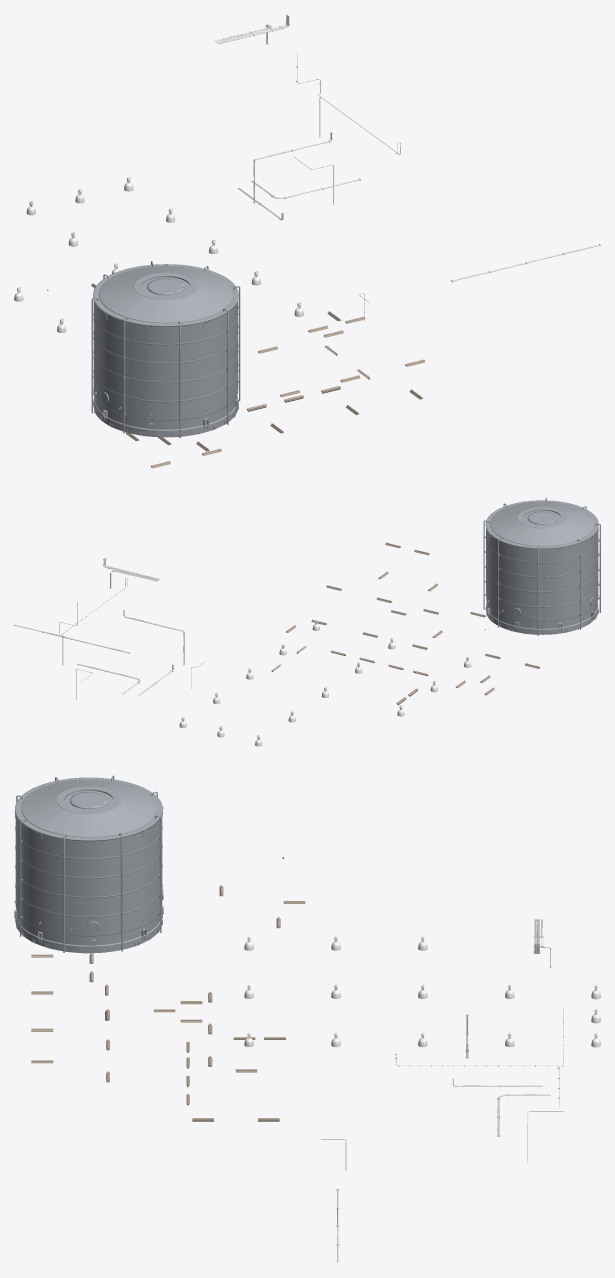
3 renders of one model, top to bottom at view 1: azimuth 30°, elevation 25°; view 2: azimuth 150°, elevation 25°; view 3: azimuth 270°, elevation 25°, orthographic. The views are drawn at different scales.
Parts seen in each view (by area): view 1: n0_lr0_agg_merge_nuke_silo_002_0_fragment1, n0_lr0_agg_merge_wires_001_1_fragment1_c1_0, n0_lr0_agg_prop_nuke_fluorescent_light_on_color_0_fragment1_, n0_lr0_agg_prop_nuke_bell_light_on_color_0_fragment16; view 2: n0_lr0_agg_merge_nuke_silo_002_0_fragment1, n0_lr0_agg_merge_wires_001_1_fragment1_c1_0, n0_lr0_agg_prop_nuke_fluorescent_light_on_color_0_fragment1_, n0_lr0_agg_prop_nuke_bell_light_on_color_0_fragment16; view 3: n0_lr0_agg_merge_nuke_silo_002_0_fragment1, n0_lr0_agg_prop_nuke_fluorescent_light_on_color_0_fragment1_, n0_lr0_agg_merge_wires_001_1_fragment1_c1_0, n0_lr0_agg_prop_nuke_bell_light_on_color_0_fragment16.
Boxes of the visible parts, box(x1,y1,x2,y2) form: n0_lr0_agg_merge_nuke_silo_002_0_fragment1: box(91, 261, 240, 438); n0_lr0_agg_merge_wires_001_1_fragment1_c1_0: box(214, 14, 600, 321); n0_lr0_agg_prop_nuke_fluorescent_light_on_color_0_fragment1_: box(47, 283, 425, 468); n0_lr0_agg_prop_nuke_bell_light_on_color_0_fragment16: box(14, 177, 303, 332); n0_lr0_agg_merge_nuke_silo_002_0_fragment1: box(483, 497, 600, 635); n0_lr0_agg_merge_wires_001_1_fragment1_c1_0: box(14, 557, 205, 699); n0_lr0_agg_prop_nuke_fluorescent_light_on_color_0_fragment1_: box(271, 542, 540, 705); n0_lr0_agg_prop_nuke_bell_light_on_color_0_fragment16: box(179, 619, 471, 746); n0_lr0_agg_merge_nuke_silo_002_0_fragment1: box(14, 775, 163, 953); n0_lr0_agg_prop_nuke_fluorescent_light_on_color_0_fragment1_: box(31, 857, 305, 1121); n0_lr0_agg_merge_wires_001_1_fragment1_c1_0: box(321, 919, 563, 1262); n0_lr0_agg_prop_nuke_bell_light_on_color_0_fragment16: box(244, 936, 600, 1047).
Bounding box in the file's own units: 2144 × 768 × 1729.
